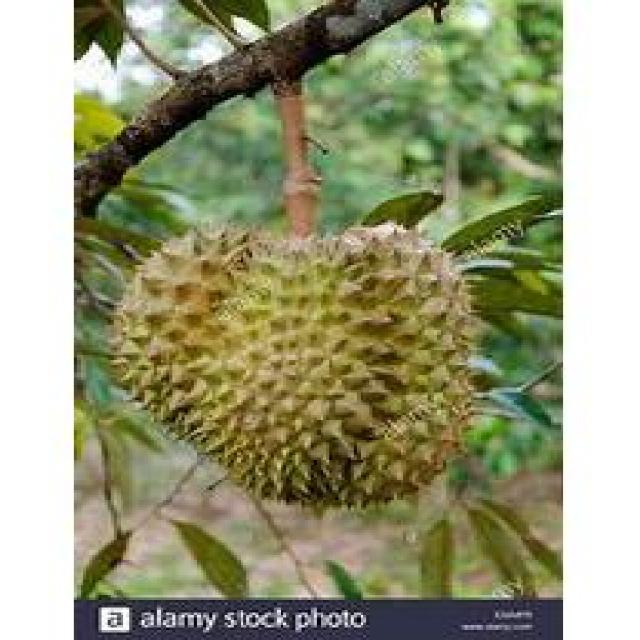fruit: (98, 170, 517, 545)
